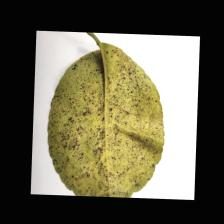canker: (52, 64, 162, 177)
